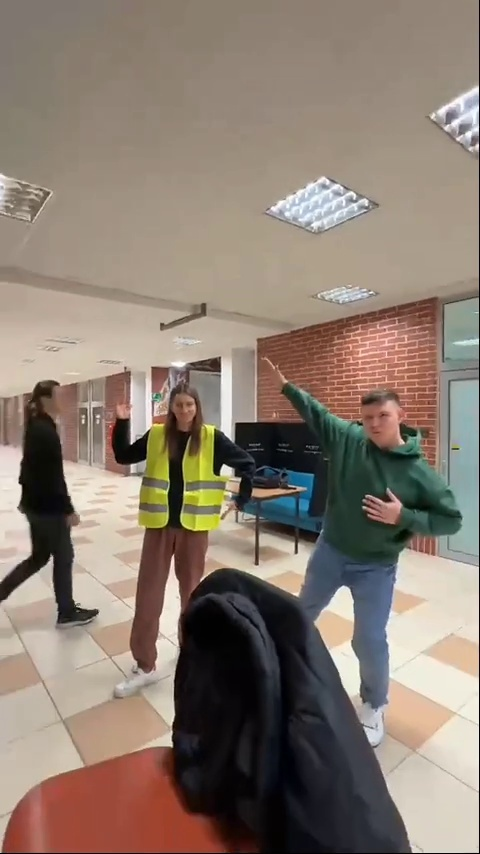no vest: (290, 357, 460, 739), (7, 366, 97, 635)
vest: (117, 380, 271, 700)
